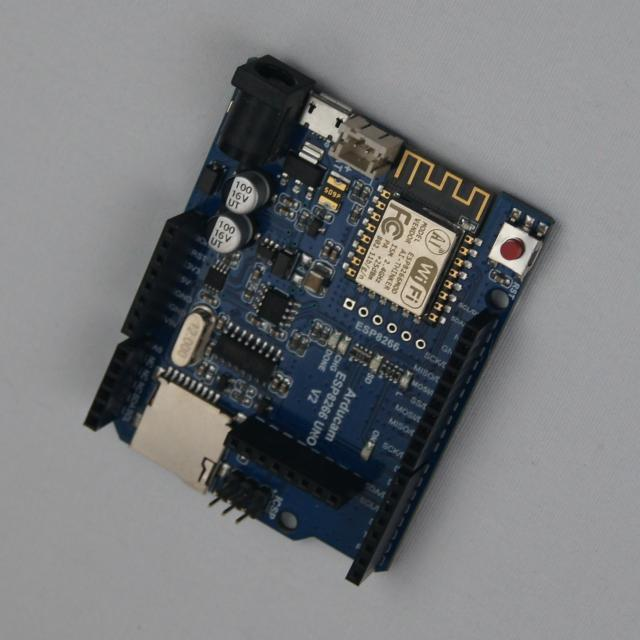Arduino Uno Camera Shield: (86, 57, 554, 585)
